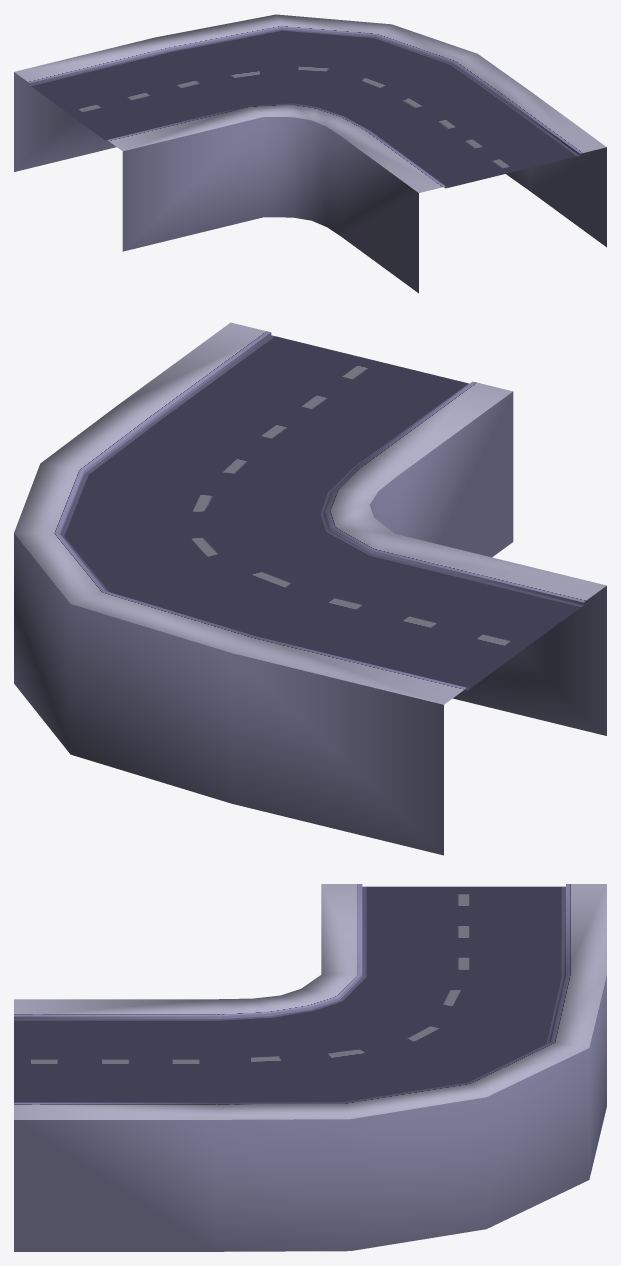
File: Turn_left.fbx
3 views of the same model, one above another, from view 1: azimuth 30°, elevation 25°; view 2: azimuth 150°, elevation 25°; view 3: azimuth 270°, elevation 25° (orthographic). The views are drawn at different scales.
Parts seen in each view (by area): view 1: Block_left; view 2: Block_left; view 3: Block_left.
Boxes of the visible parts, x1,y1,x2,y2 form: Block_left: (14, 14, 606, 293); Block_left: (14, 322, 606, 855); Block_left: (14, 884, 606, 1251).
Size of the model in its own units: 39.07 by 10.19 by 41.52.
1 material, 1 textured.
